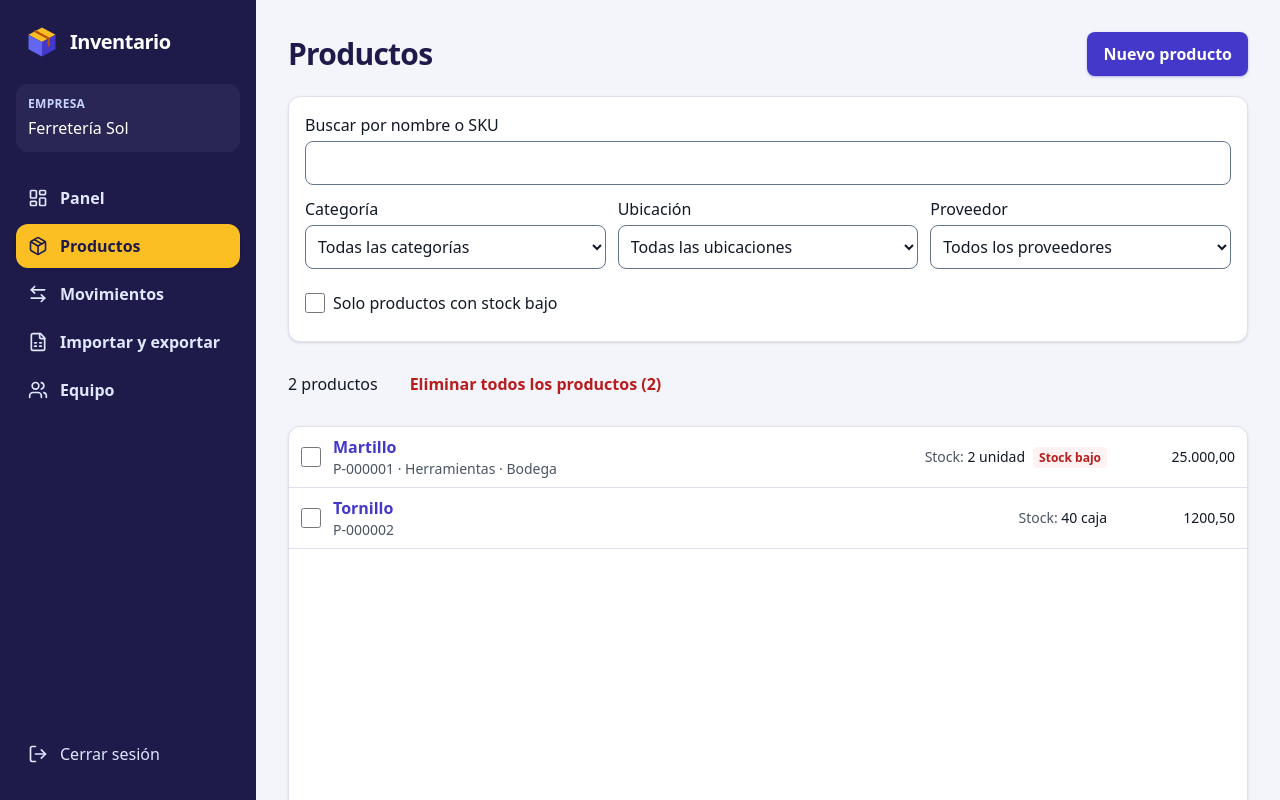
Productos › elimina los productos seleccionados de una vez
Click the checkbox named "Seleccionar Martillo" next to "Martillo" at (311, 457), box [301, 447, 321, 467]
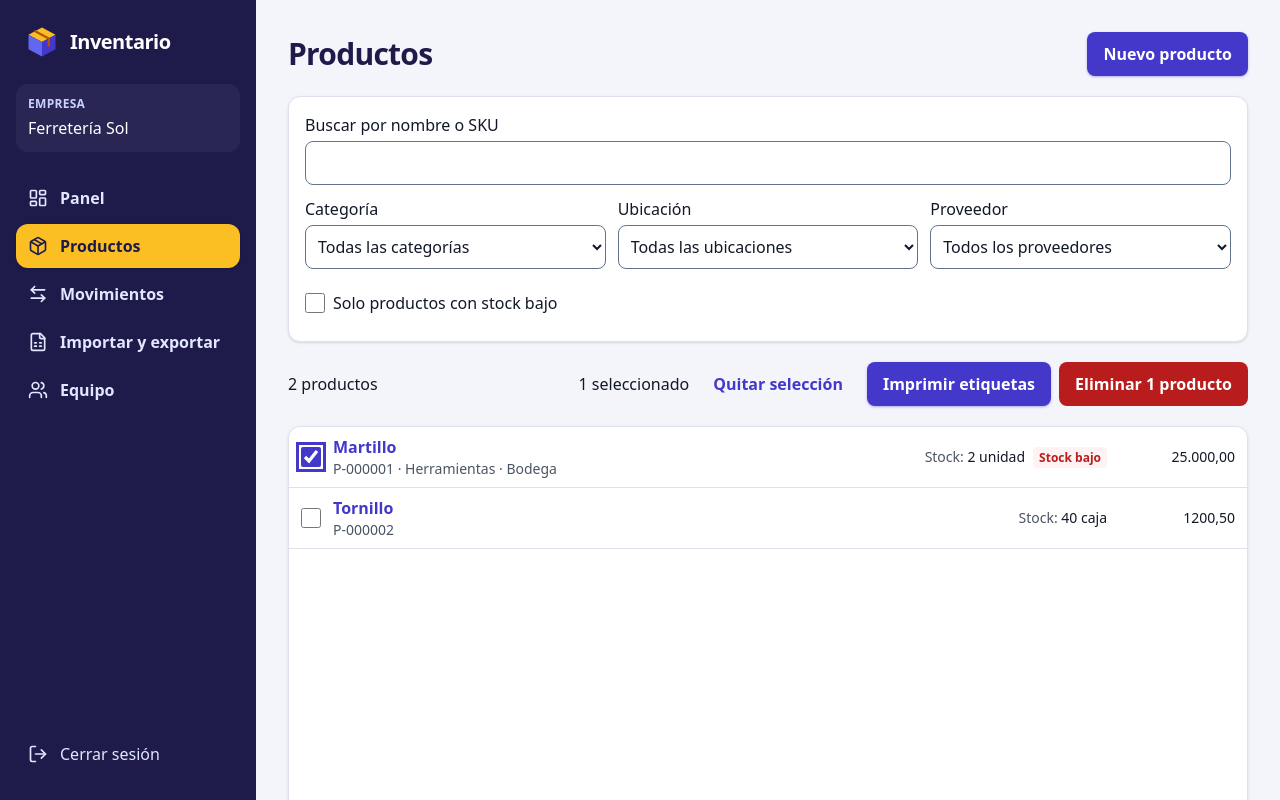
Click the checkbox named "Seleccionar Tornillo" next to "Tornillo" at (311, 518), box [301, 508, 321, 528]
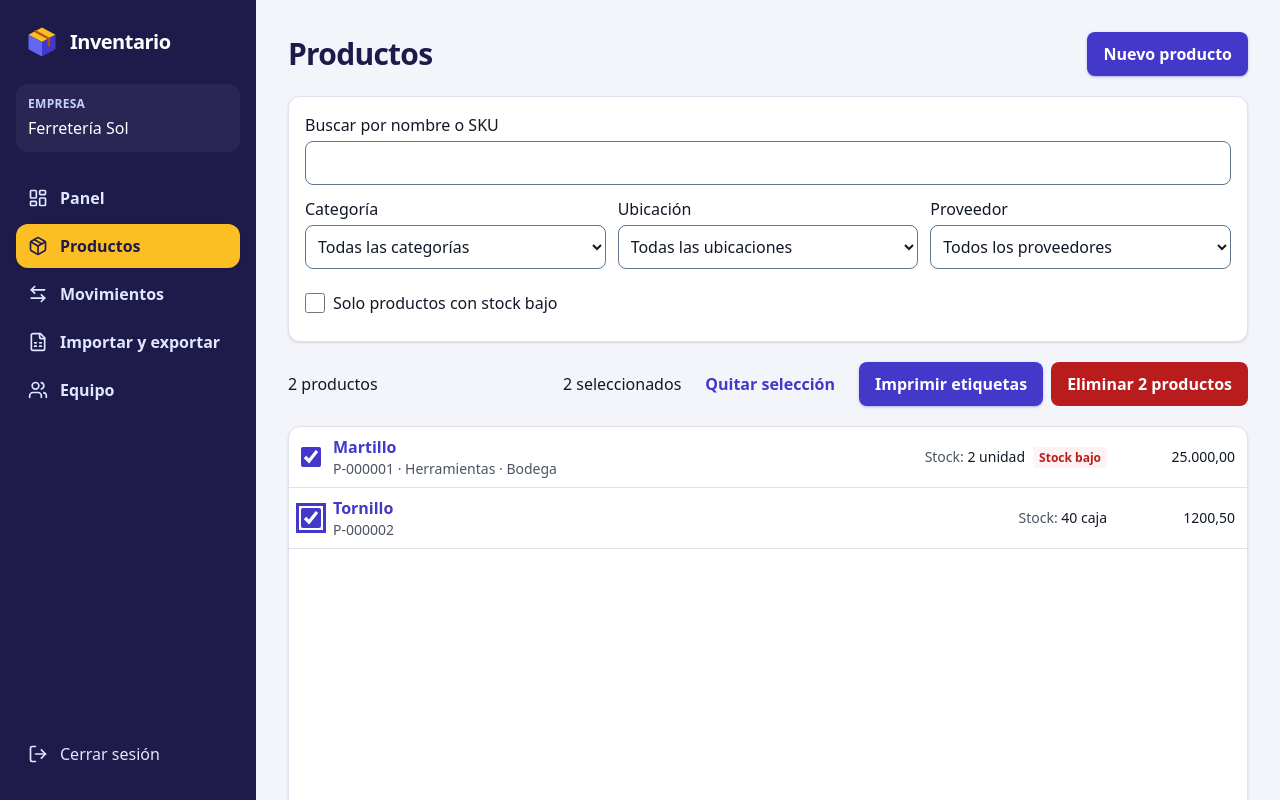
Click the button "Eliminar 2 productos" at (1150, 384), box [1051, 362, 1248, 406]
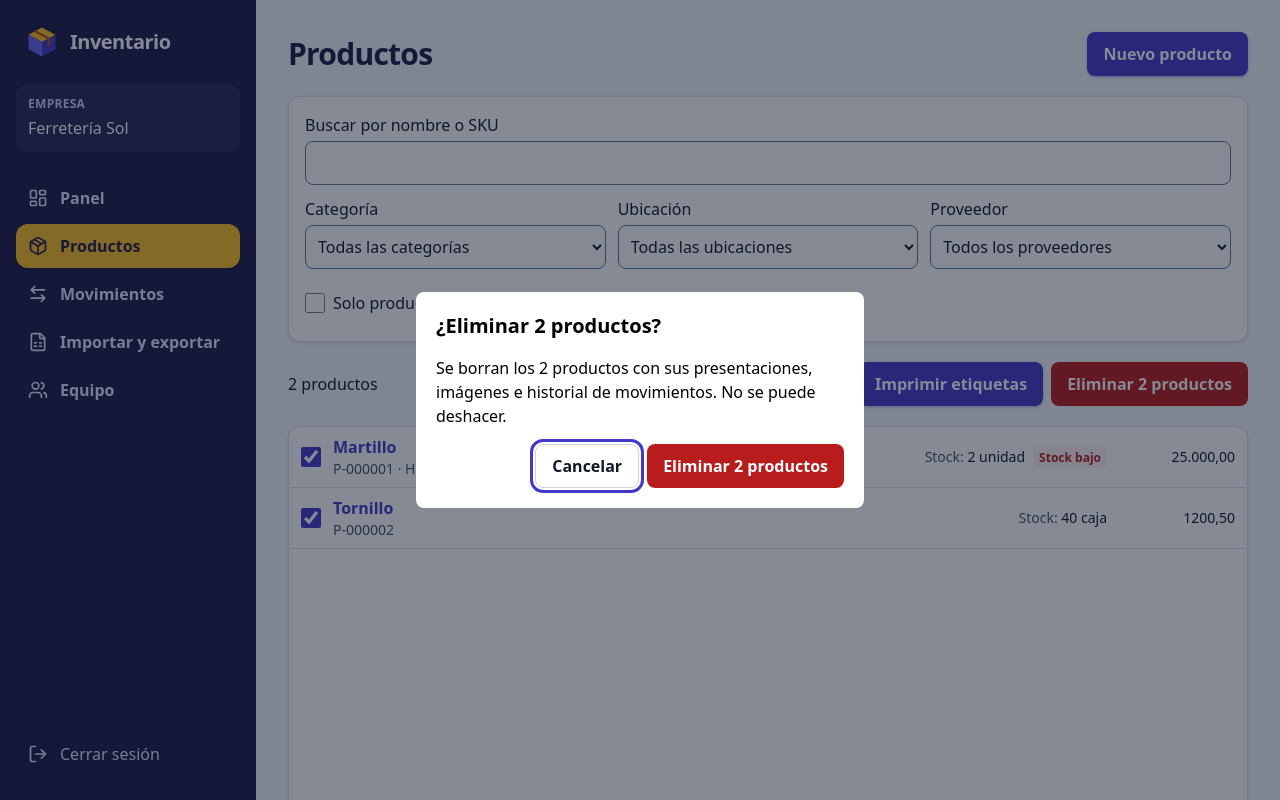
Click the button "Eliminar 2 productos" at (746, 466), box [647, 444, 844, 488]
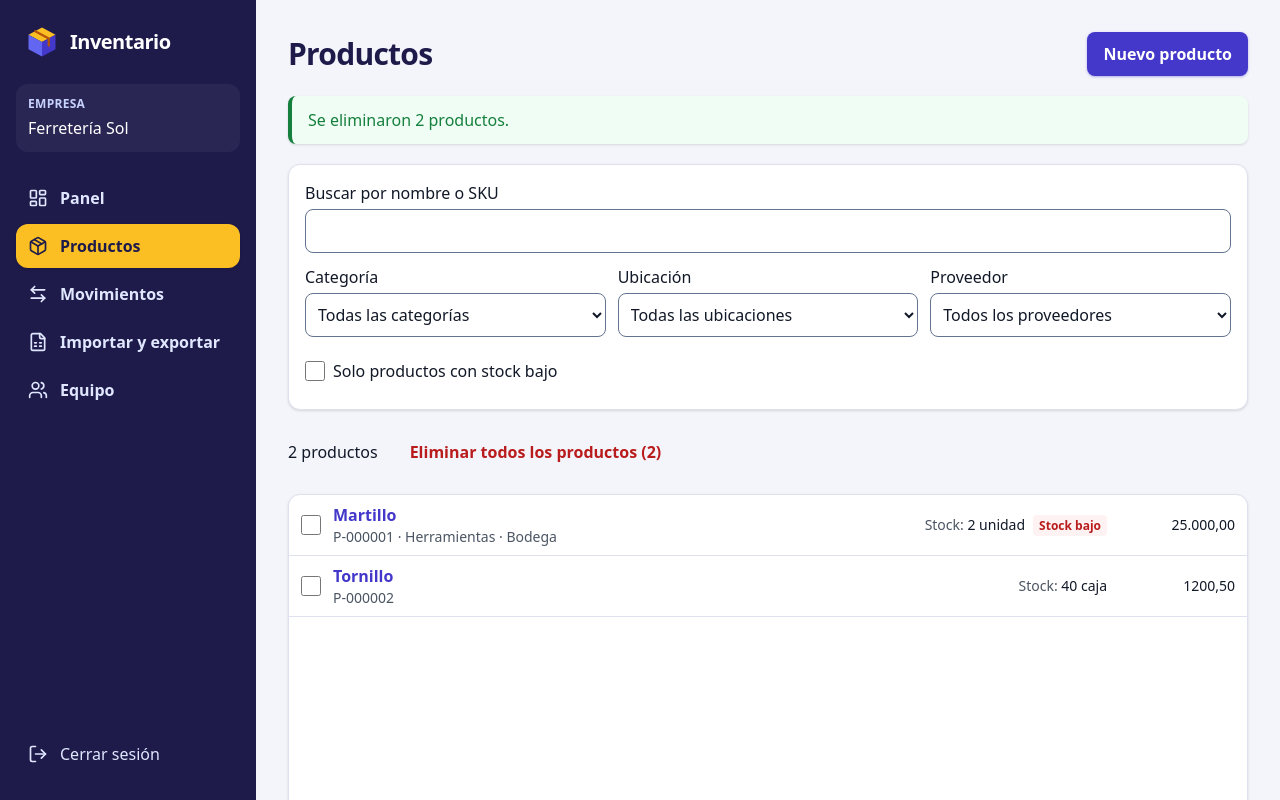
Now the text "Se eliminaron 2 productos." is shown, box [288, 96, 1248, 144]
